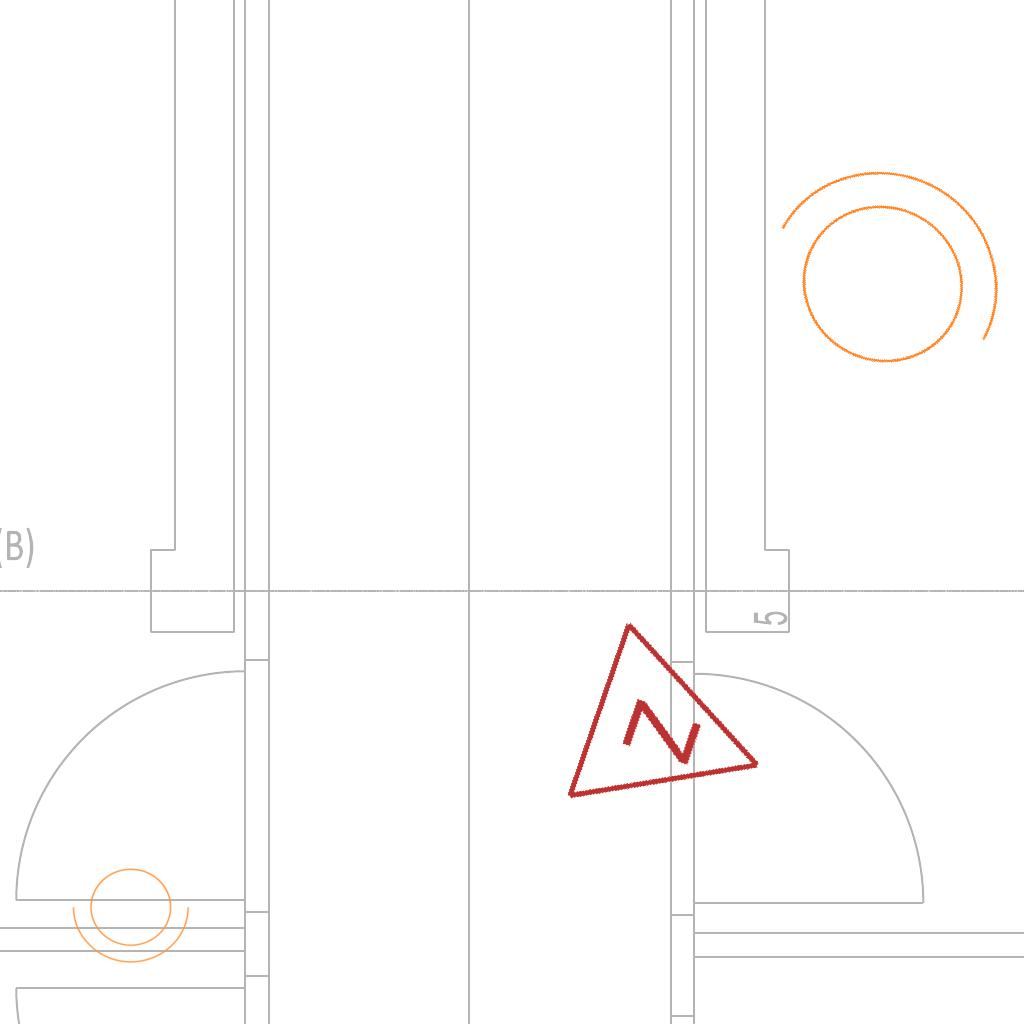Scheinwerfer_fuer_Alarmbeleuchtung: (712, 110, 1024, 435), (68, 856, 200, 968)
Zimmersignalleuchte: (551, 609, 805, 861)
